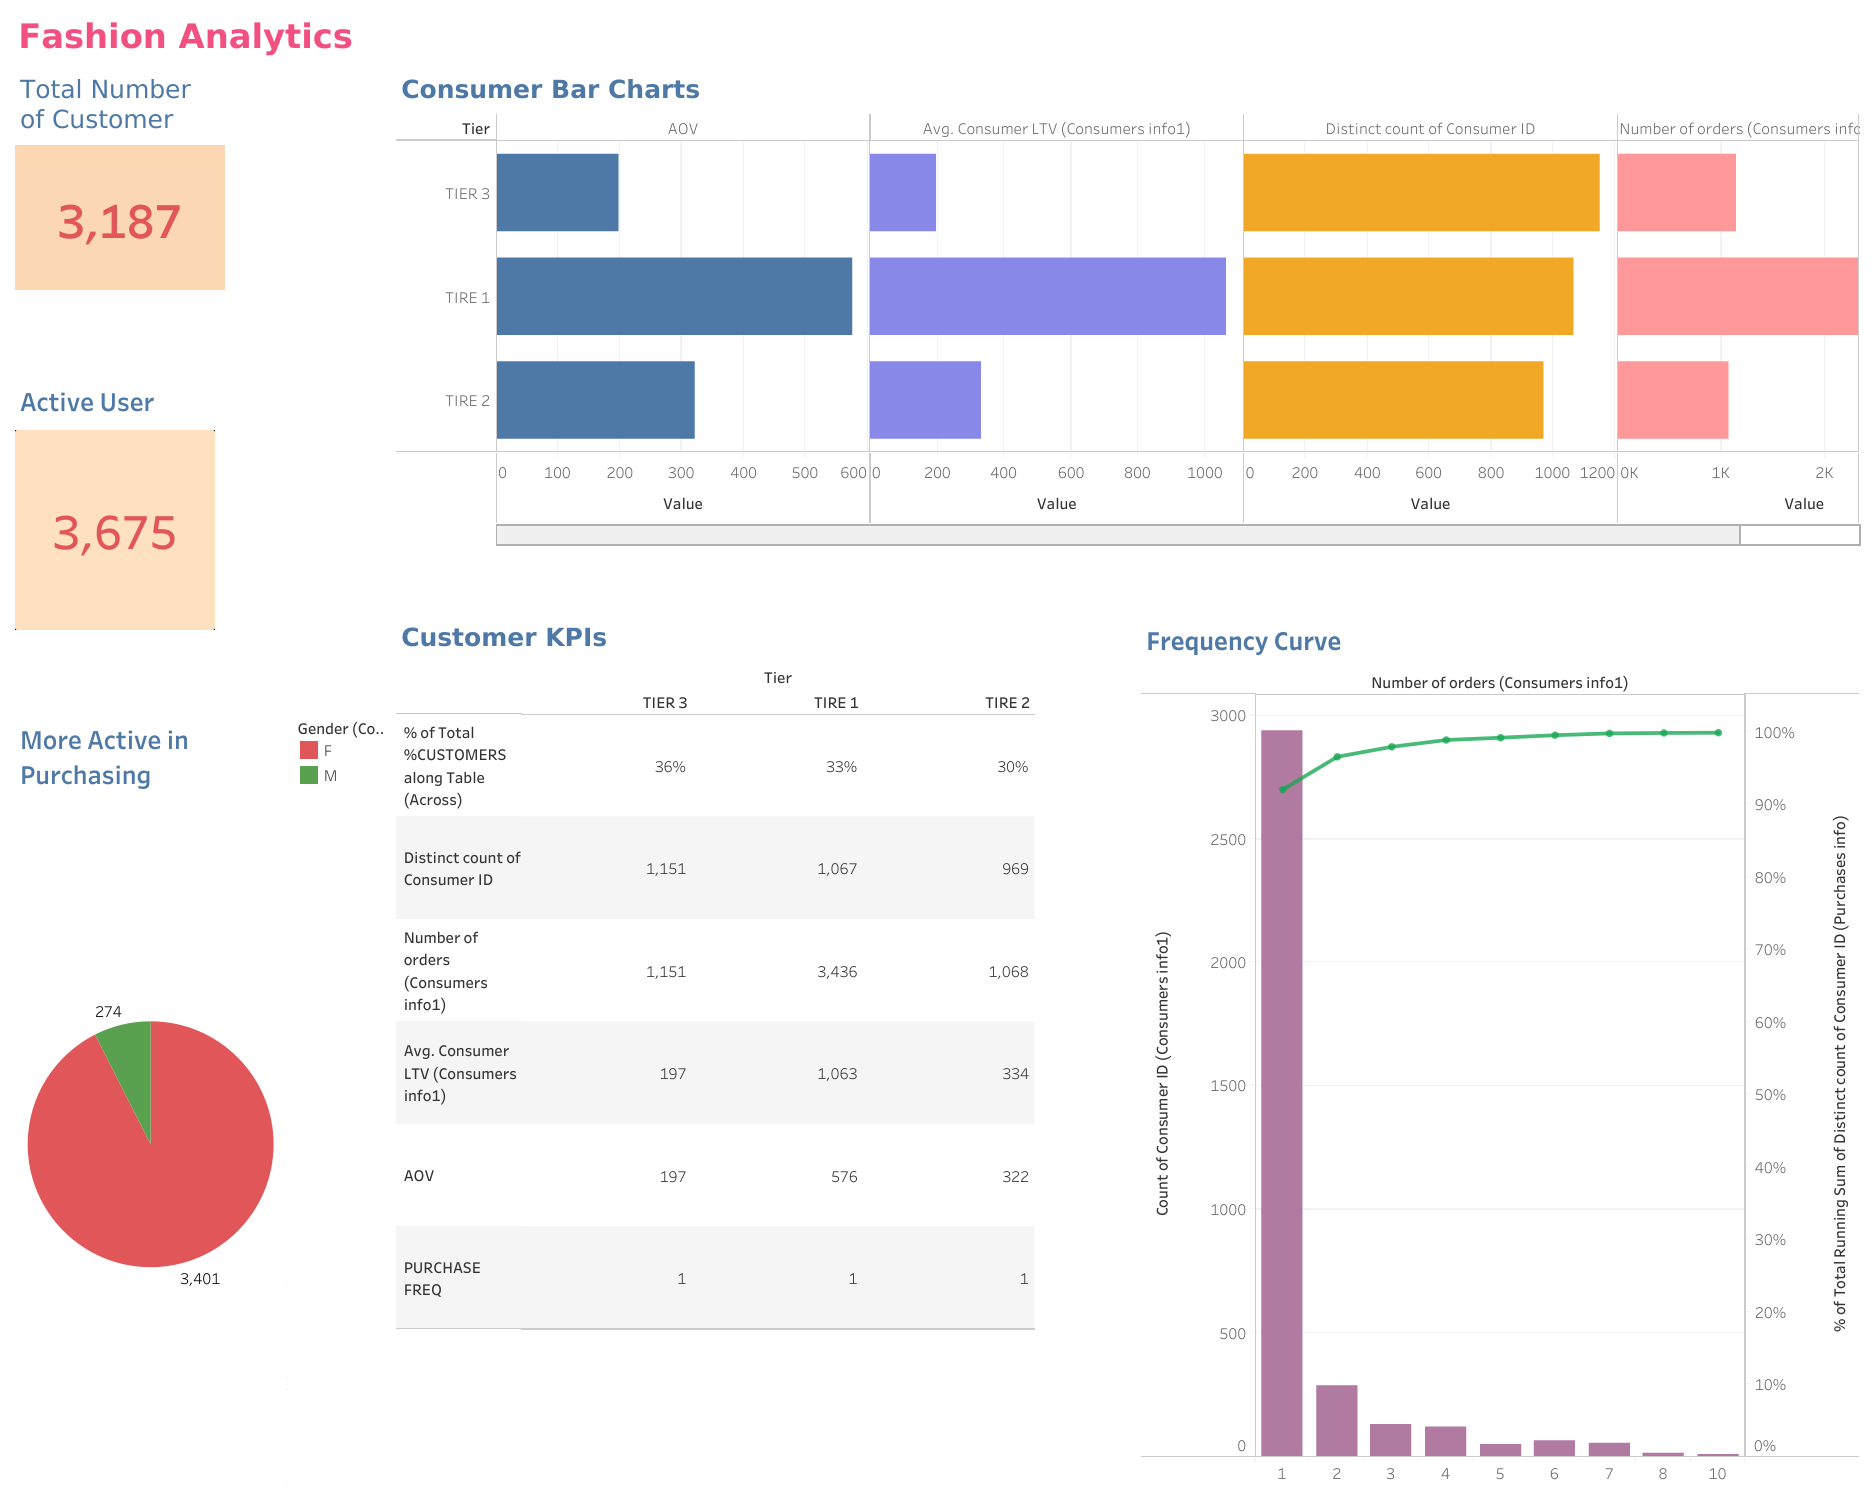

Layout of this report page (visuals, bound fields, positions):
{"tool":"tableau","page":{"name":"Fashion Analytics","canvas":[1500,1200],"ordinal":0},"visuals":[{"type":"title","box":[8,8,1484,49]},{"type":"worksheet","title":"toatal no. of customer","mark":"Square","box":[8,57,305,246.3]},{"type":"worksheet","title":"CUSTOMER KPIs (2)","mark":"Automatic","rows":["Calculation_1937955271408332804"],"box":[313,57,1179,436.1]},{"type":"worksheet","title":"active user","mark":"Pie","box":[8,303.3,305,268.4]},{"type":"worksheet","title":"CUSTOMER KPIs","mark":"Automatic","cols":["Calculation_1937955271408332804"],"box":[313,493.2,596,698.8]},{"type":"worksheet","title":"frequency curve","mark":"Bar","rows":["Consumer ID (Consumers info1)","Consumer ID (Purchases info)"],"cols":["Number of orders (Consumers info1)"],"box":[909,493.2,583,698.8]},{"type":"worksheet","title":"more active in gender","mark":"Pie","box":[8,571.8,225.2,620.2]},{"type":"legend","title":"more active in gender","param":"[federated.02ree7n0d29d6c18p9j9k0tg3qpx].[none:Gender (Consumers info1):nk]","box":[233.2,571.8,79.8,620.2]}]}

Visuals, with their boxes in screenshot pixels (x1, y1, x2, y2), scaled from the page's 1500x1200 canvas onto the 1874x1499 screenshot:
title: <region>10, 10, 1864, 71</region>
"toatal no. of customer" worksheet (Square marks): <region>10, 71, 391, 379</region>
"CUSTOMER KPIs (2)" worksheet: <region>391, 71, 1864, 616</region>
"active user" worksheet (Pie marks): <region>10, 379, 391, 714</region>
"CUSTOMER KPIs" worksheet: <region>391, 616, 1136, 1489</region>
"frequency curve" worksheet (Bar marks): <region>1136, 616, 1864, 1489</region>
"more active in gender" worksheet (Pie marks): <region>10, 714, 291, 1489</region>
"more active in gender" legend: <region>291, 714, 391, 1489</region>
